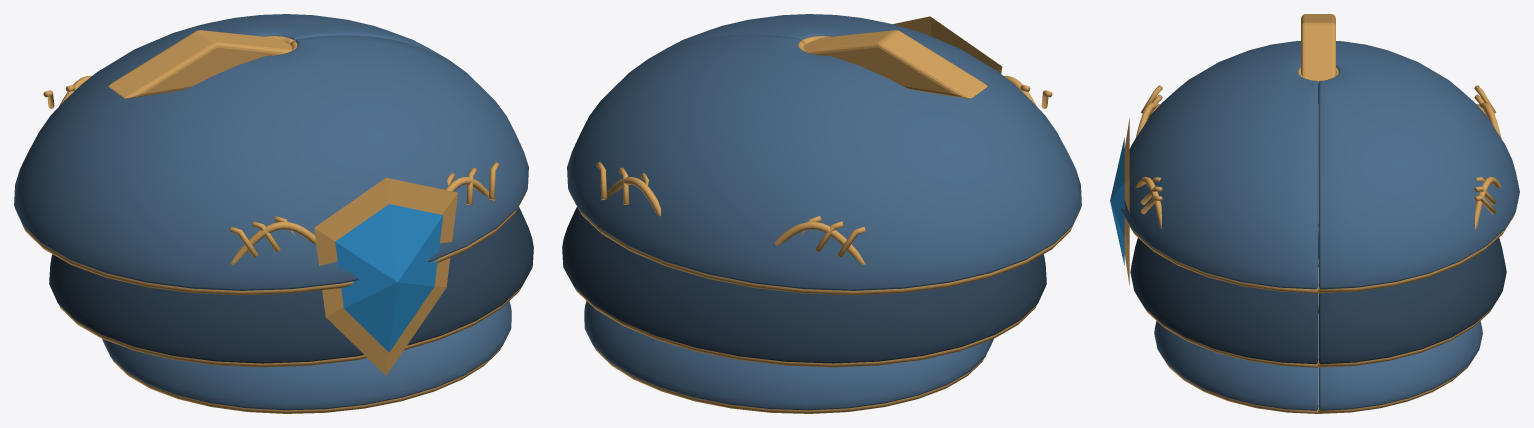
Rendered from pauldron_plate.glb.
3 renders of one model, left to right at view 1: azimuth 30°, elevation 25°; view 2: azimuth 150°, elevation 25°; view 3: azimuth 270°, elevation 25°, orthographic. The views are drawn at different scales.
Parts seen in each view (by area): view 1: pauldron_plate; view 2: pauldron_plate; view 3: pauldron_plate.
Boxes of the visible parts, bbox=[...] form: pauldron_plate: bbox=[14, 14, 533, 413]; pauldron_plate: bbox=[562, 14, 1081, 413]; pauldron_plate: bbox=[1110, 14, 1519, 413].
Bounding box in the file's own units: 0.2101 × 0.1384 × 0.1868.
